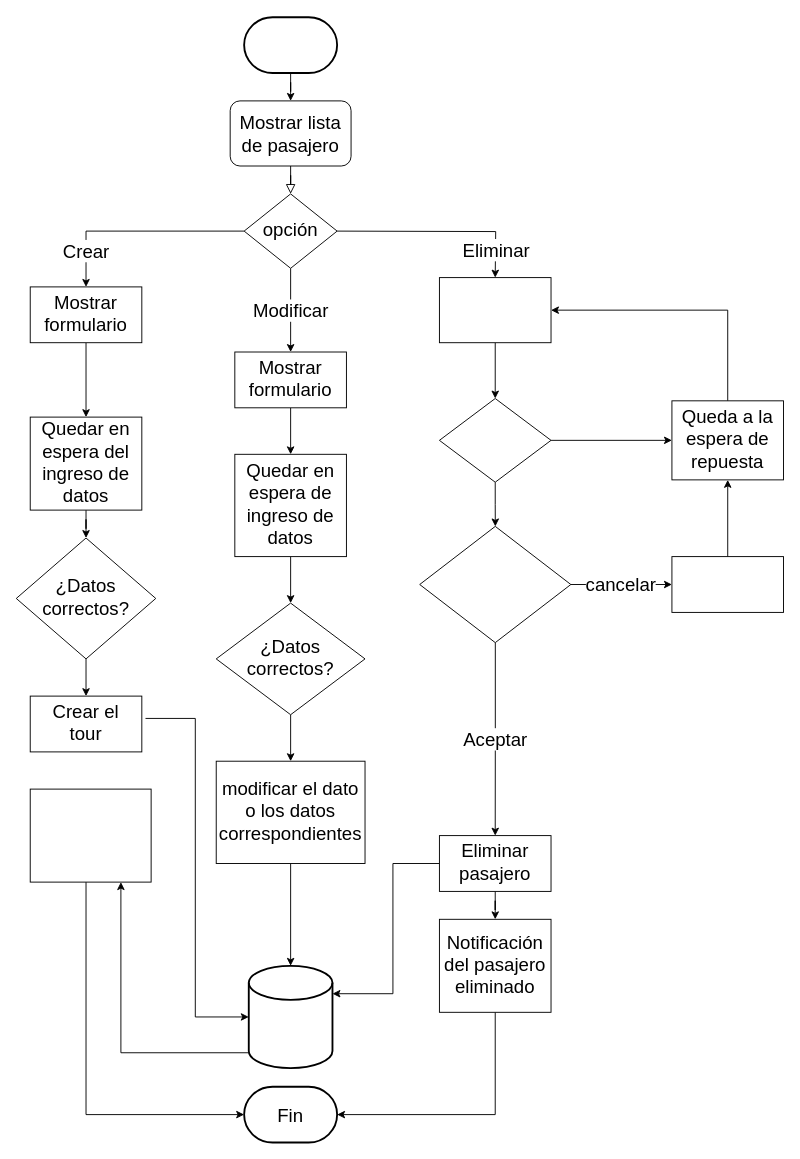
The diagram is 800 pixels wide and 1159 high, and some of its shapes have lost their labels. Each missing label, with the centre of its shape:
"Base de Datos" goes at (290,1016).
"Inicio" goes at (290,44).
"Mostrar botón de eliminar" goes at (494,310).
"Mostrar la tabla con los datos creados" goes at (90,835).
"Vuelve a la espera" goes at (727,584).
"¿Preguntar si está seguro?" goes at (495,584).
"¿Presiona botón?" goes at (494,440).
